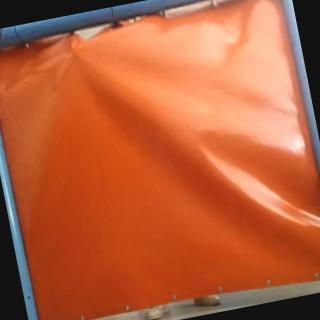Hit-hRxx: (66, 42, 82, 58)
